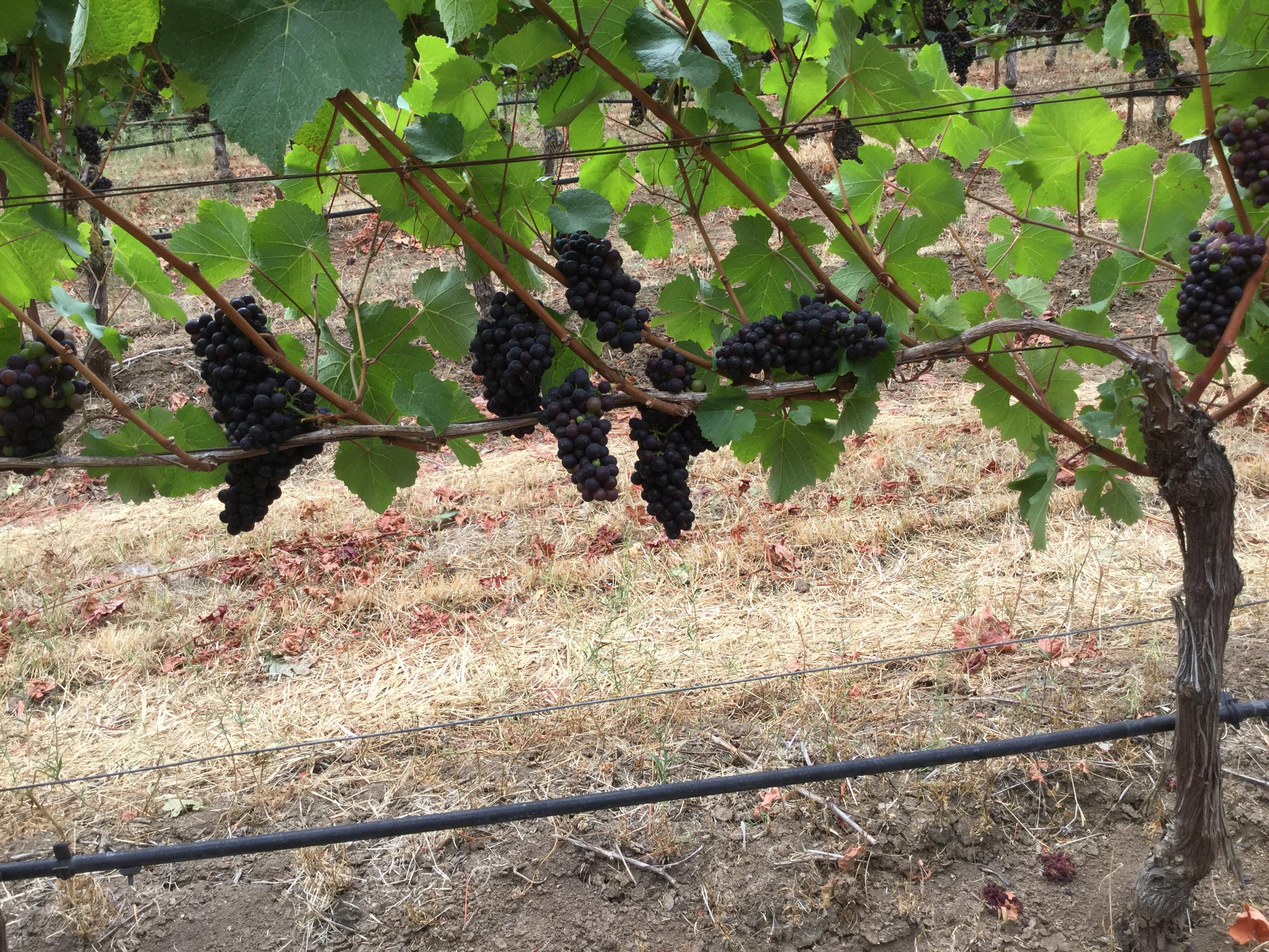leaf: (156, 0, 405, 169), (318, 301, 434, 421), (1096, 143, 1210, 261), (337, 144, 456, 247), (1025, 94, 1122, 213), (731, 402, 842, 500), (249, 200, 338, 314), (723, 216, 814, 319), (826, 35, 937, 115), (624, 7, 721, 86), (169, 198, 252, 285), (112, 228, 186, 322), (964, 367, 1045, 451), (51, 283, 132, 361), (333, 438, 417, 513), (0, 208, 64, 306), (68, 0, 160, 68), (431, 56, 497, 149), (412, 268, 478, 360), (550, 0, 641, 66), (654, 273, 733, 347), (984, 216, 1073, 280), (826, 144, 894, 222), (1008, 441, 1056, 550), (87, 465, 225, 502), (895, 158, 965, 229), (537, 66, 615, 125), (578, 138, 636, 211), (138, 404, 227, 450), (1075, 464, 1143, 524), (490, 19, 568, 70), (275, 145, 330, 213), (695, 387, 756, 446), (547, 187, 612, 238), (29, 204, 88, 258), (403, 112, 465, 161), (618, 203, 672, 257), (0, 138, 47, 199), (82, 422, 166, 456), (292, 100, 343, 154), (435, 0, 496, 44), (939, 115, 990, 166), (832, 387, 878, 441), (541, 341, 586, 392), (870, 115, 944, 144), (1058, 301, 1113, 338), (708, 91, 758, 130), (0, 0, 38, 46), (1102, 0, 1130, 58), (991, 357, 1027, 390), (275, 333, 307, 366), (572, 322, 603, 355), (1066, 347, 1115, 366), (832, 7, 853, 36), (1028, 208, 1059, 224), (547, 308, 564, 324), (457, 0, 470, 6), (484, 0, 491, 11), (187, 284, 194, 292), (393, 150, 396, 164), (628, 69, 634, 74), (908, 112, 911, 114), (5, 351, 9, 352), (799, 260, 800, 263), (438, 197, 439, 200), (433, 192, 434, 194), (490, 16, 491, 18), (1094, 513, 1095, 514), (588, 371, 588, 372)
